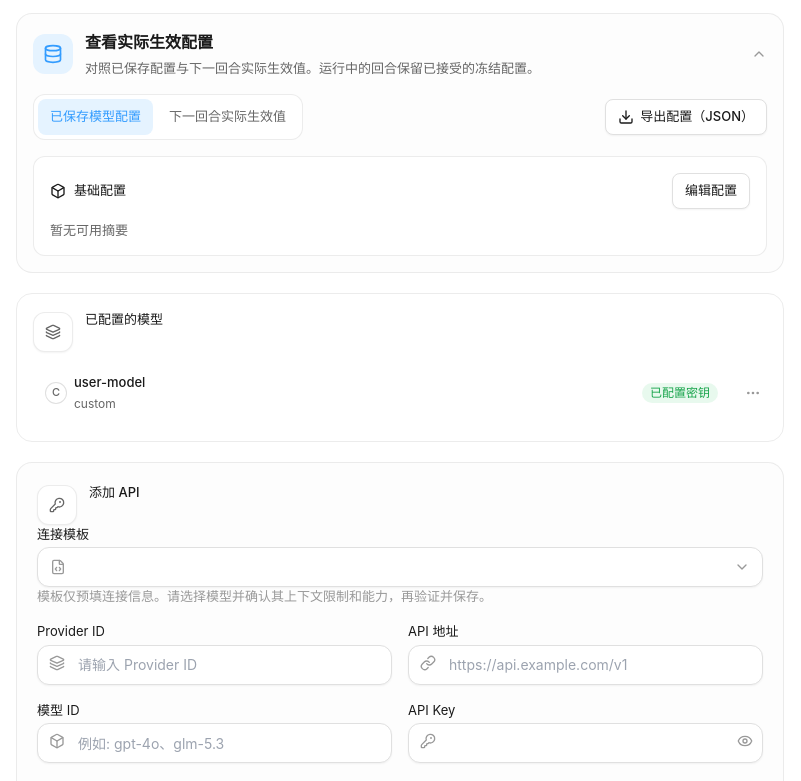
Test: failed identity refresh cannot expose or save the previous account draft
(page scrolled)
Click the button with test id "provider-edit-custom": (110, 382) [33,360,731,425]
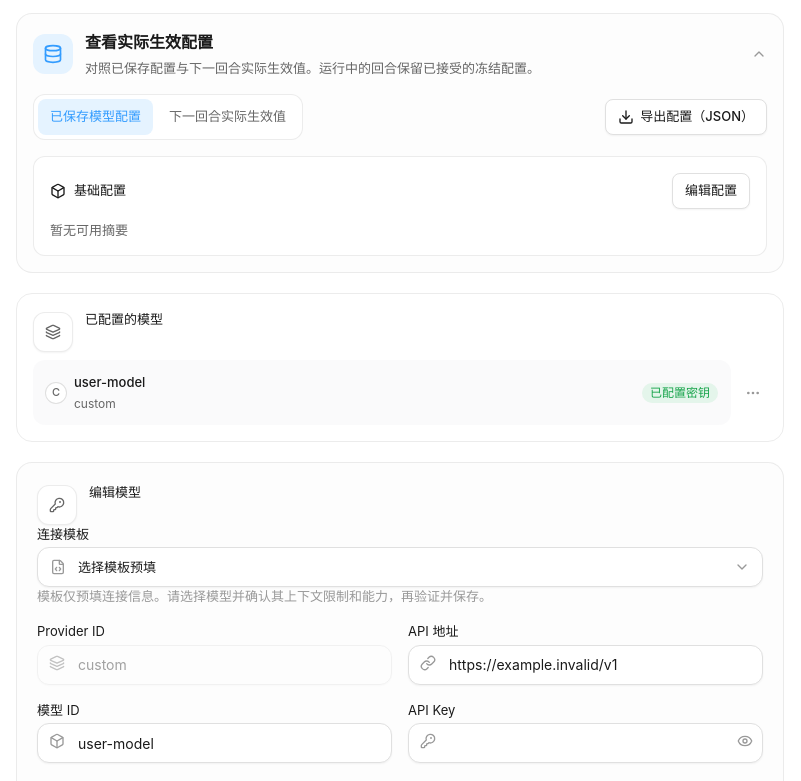
In the password field with test id "provider-apiKey": (586, 743) [408,723,763,763], type "old-scope-draft"
(page scrolled)
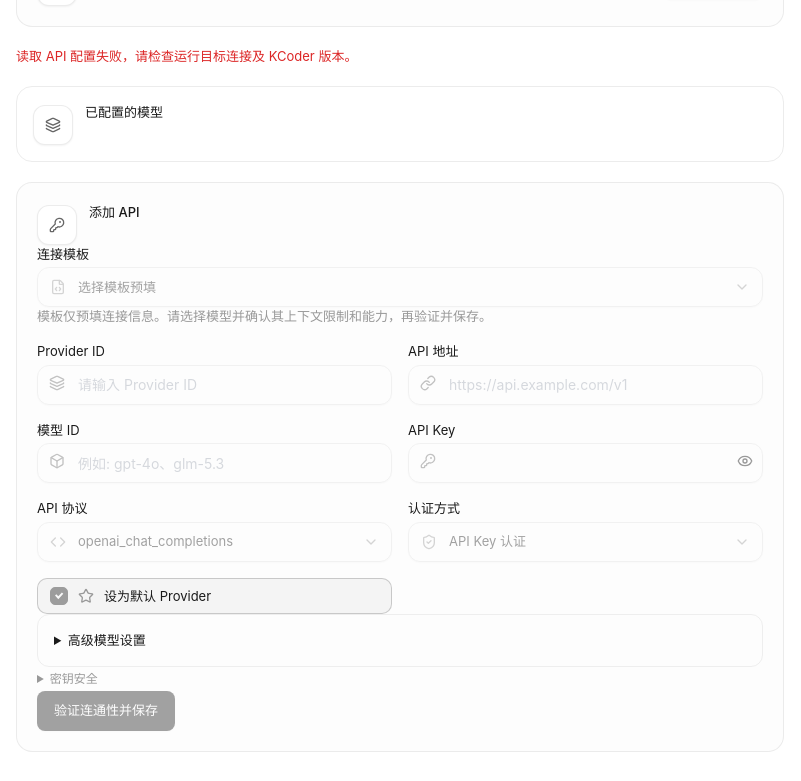
Expected: the password field with test id "provider-apiKey" is empty, [408,443,763,483]
Expected: the message "读取 API 配置失败，请检查运行目标连接及 KCoder 版本。" is shown, [16,48,357,64]
Expected: the button with test id "provider-save" is disabled, [37,691,175,731]
